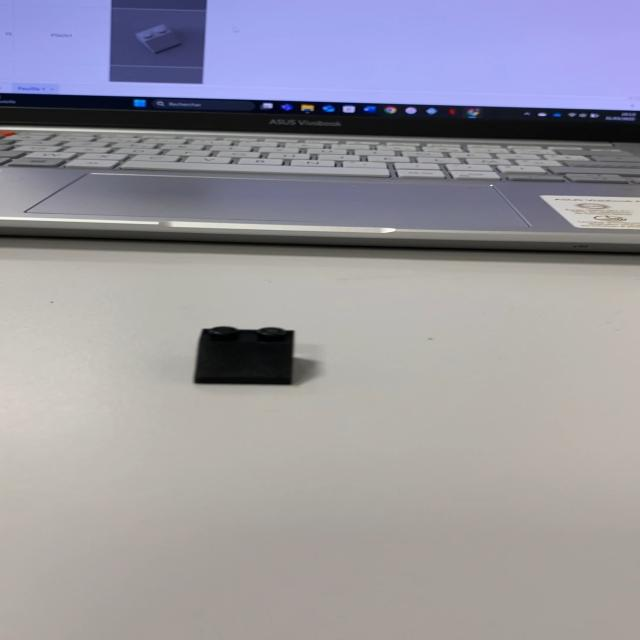P2x2x1: (22, 310, 340, 384)
